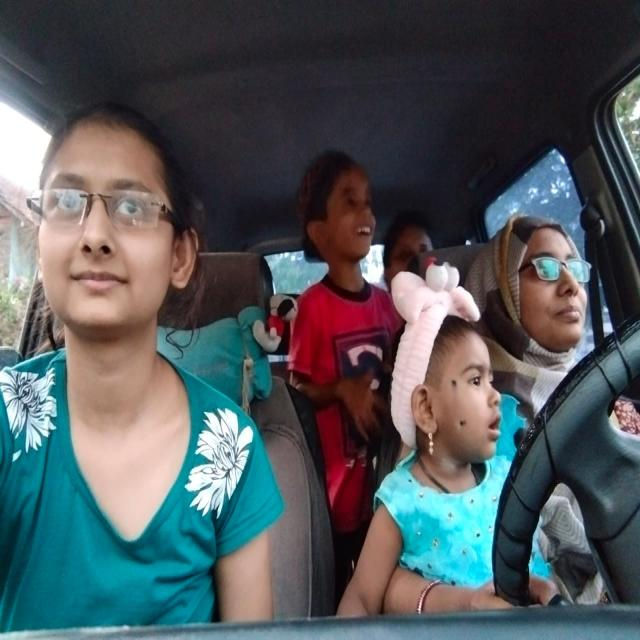child: (388, 315, 507, 471)
person: (27, 102, 208, 331), (506, 207, 600, 361), (295, 151, 384, 275), (385, 215, 438, 283)
